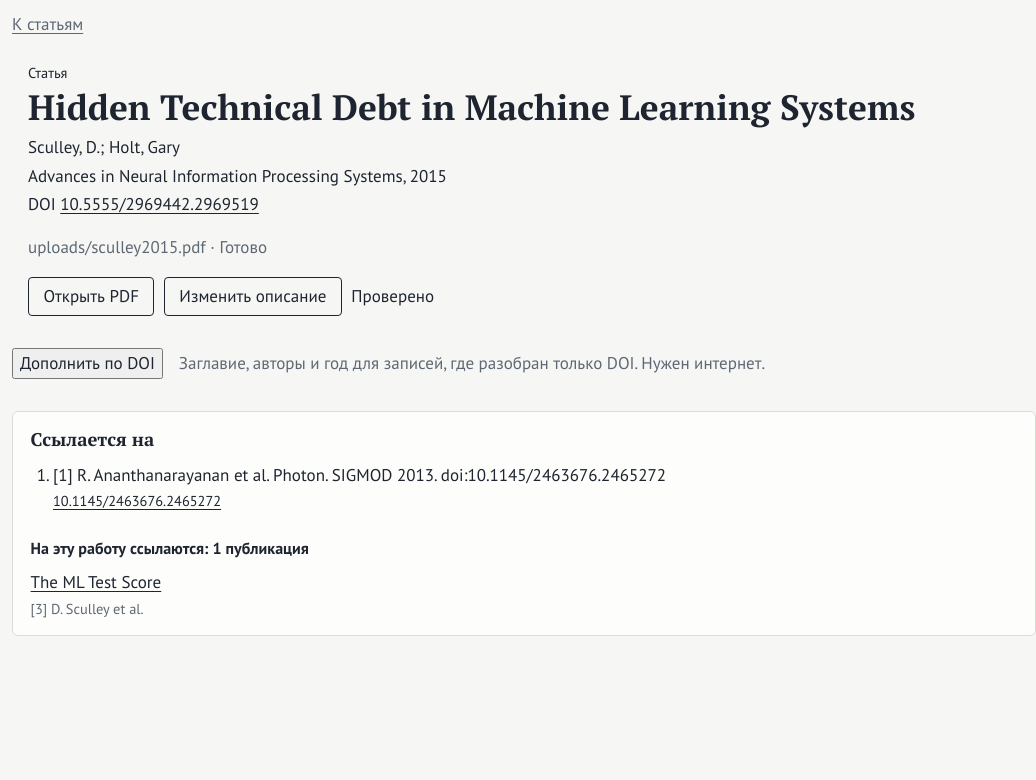
Scenario: PaperPage › fills thin references in from doi.org on request, and says how many
This screenshot has width=1036, height=780.
Click the button "Дополнить по DOI".
click(87, 364)  # box [12,348,163,380]
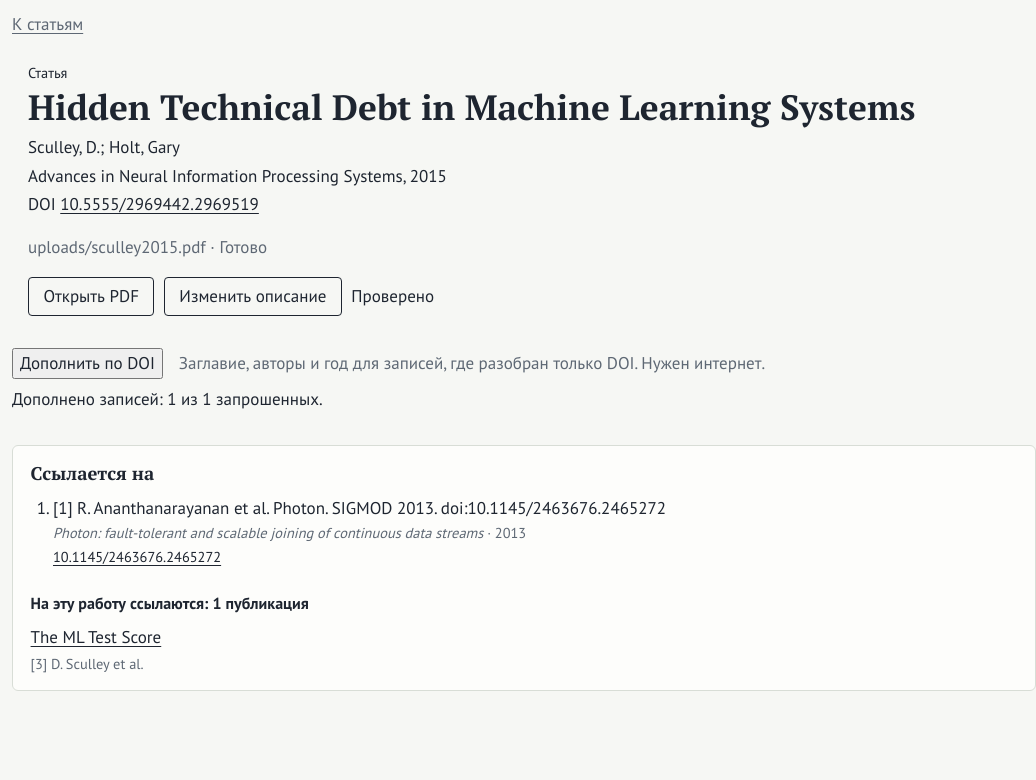
Now the text "Дополнено записей: 1 из 1 запрошенных." is shown, box [12,388,322,410]
Now the text "Photon: fault-tolerant and scalable joining of continuous data streams" is shown, box [53,523,483,542]
